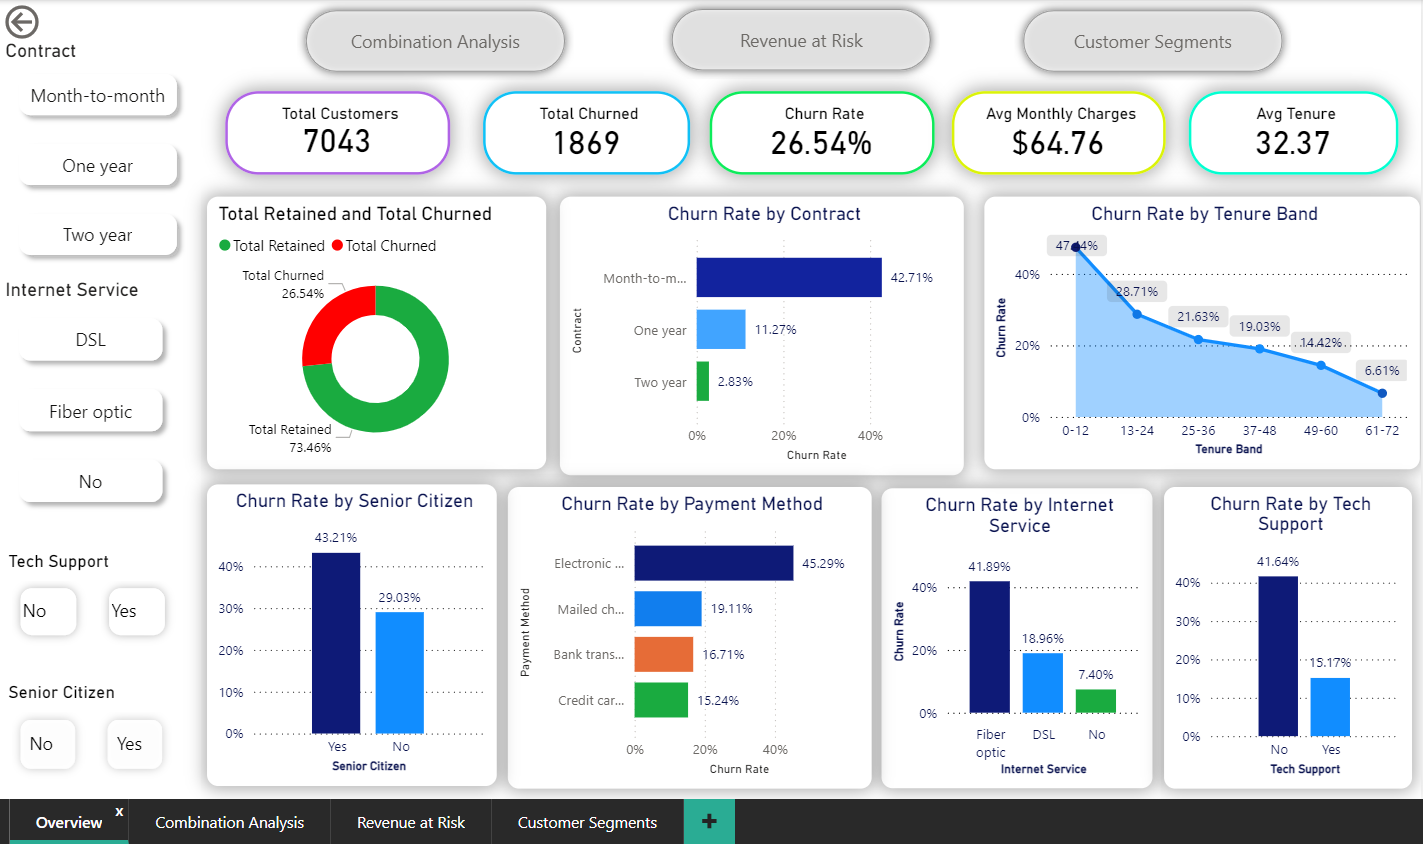

Layout of this report page (visuals, bound fields, positions):
{"tool":"powerbi","page":{"name":"Overview","canvas":[1280,720],"ordinal":0},"visuals":[{"type":"card","title":"Total Customers","fields":{"Values":["TELCO Churn.Total Customers"]},"box":[202.5,82.5,202.5,75],"z":0},{"type":"card","title":"Total Churned","fields":{"Values":["TELCO Churn.Total Churned"]},"box":[435,82.5,186.2,75],"z":1000},{"type":"card","title":"Churn Rate","fields":{"Values":["TELCO Churn.Churn Rate%"]},"box":[640,82.5,202.5,75],"z":2000},{"type":"card","title":"Avg Monthly Charges","fields":{"Values":["TELCO Churn.Overall AVG MONTHLY CHARGES"]},"box":[857.5,82.5,192.5,75],"z":3000},{"type":"card","title":"Avg Tenure","fields":{"Values":["TELCO Churn.Overall Avg Tenure"]},"box":[1071.2,82.5,188.8,75],"z":4000},{"type":"barChart","fields":{"Category":["TELCO Churn.Contract"],"Y":["_KPIs.Churn Rate"]},"box":[504.7,176.9,364.2,251],"z":5000},{"type":"donutChart","fields":{"Y":["TELCO Churn.Total Retained","TELCO Churn.Total Churned"]},"box":[186,176.9,305.7,245.8],"z":6000},{"type":"actionButton","box":[0,0,100,40],"z":7000},{"type":"columnChart","fields":{"Y":["TELCO Churn.Churn Rate%"],"Category":["TELCO Churn.Internet Service"]},"box":[794.8,439.6,244.5,270.6],"z":8000},{"type":"areaChart","fields":{"Category":["TELCO Churn.Tenure Band"],"Y":["TELCO Churn.Churn Rate"]},"box":[887.1,176.9,392.8,245.8],"z":9000},{"type":"clusteredBarChart","fields":{"Category":["TELCO Churn.Payment Method"],"Y":["_KPIs.Churn Rate"]},"box":[457.9,438.3,327.8,271.9],"z":10000},{"type":"columnChart","fields":{"Category":["TELCO Churn.Tech Support"],"Y":["_KPIs.Churn Rate"]},"box":[1049.7,438.3,223.7,271.9],"z":11000},{"type":"columnChart","title":"Churn Rate by Senior Citizen","fields":{"Category":["TELCO Churn.SeniorCitizen"],"Y":["_KPIs.Churn Rate"]},"box":[186,437,261.4,271.9],"z":12000},{"type":"advancedSlicerVisual","fields":{"Values":["TELCO Churn.Contract"]},"box":[0,36.2,176.2,206.2],"z":13000},{"type":"advancedSlicerVisual","title":"Internet Service","fields":{"Values":["TELCO Churn.Internet Service"]},"box":[0,251.2,163.8,221.2],"z":14000},{"type":"advancedSlicerVisual","title":"Senior Citizen","fields":{"Values":["TELCO Churn.SeniorCitizen"]},"box":[2.5,615,161.2,93.8],"z":15000},{"type":"advancedSlicerVisual","fields":{"Values":["TELCO Churn.Tech Support"]},"box":[2.5,496.2,163.8,92.5],"z":17000},{"type":"actionButton","box":[268,1.3,249.7,71.5],"z":19000},{"type":"actionButton","box":[597,0,249.7,71.5],"z":20000},{"type":"actionButton","box":[914.4,1.3,249.7,71.5],"z":21000}]}

Visuals, with their boxes on the page's 1280x720 design canvas (x1, y1, x2, y2). These are canvas units, not pixel positions in the 1423x844 screenshot, which may show the page scaled, cropped or inside an application window:
"Total Customers" card: 202,82,405,158
"Total Churned" card: 435,82,621,158
"Churn Rate" card: 640,82,842,158
"Avg Monthly Charges" card: 858,82,1050,158
"Avg Tenure" card: 1071,82,1260,158
barChart - TELCO Churn.Contract x _KPIs.Churn Rate: 505,177,869,428
donutChart - TELCO Churn.Total Retained x TELCO Churn.Total Churned: 186,177,492,423
actionButton: 0,0,100,40
columnChart - TELCO Churn.Churn Rate% x TELCO Churn.Internet Service: 795,440,1039,710
areaChart - TELCO Churn.Tenure Band x TELCO Churn.Churn Rate: 887,177,1280,423
clusteredBarChart - TELCO Churn.Payment Method x _KPIs.Churn Rate: 458,438,786,710
columnChart - TELCO Churn.Tech Support x _KPIs.Churn Rate: 1050,438,1273,710
"Churn Rate by Senior Citizen" columnChart: 186,437,447,709
advancedSlicerVisual - TELCO Churn.Contract: 0,36,176,242
"Internet Service" advancedSlicerVisual: 0,251,164,472
"Senior Citizen" advancedSlicerVisual: 2,615,164,709
advancedSlicerVisual - TELCO Churn.Tech Support: 2,496,166,589
actionButton: 268,1,518,73
actionButton: 597,0,847,72
actionButton: 914,1,1164,73
